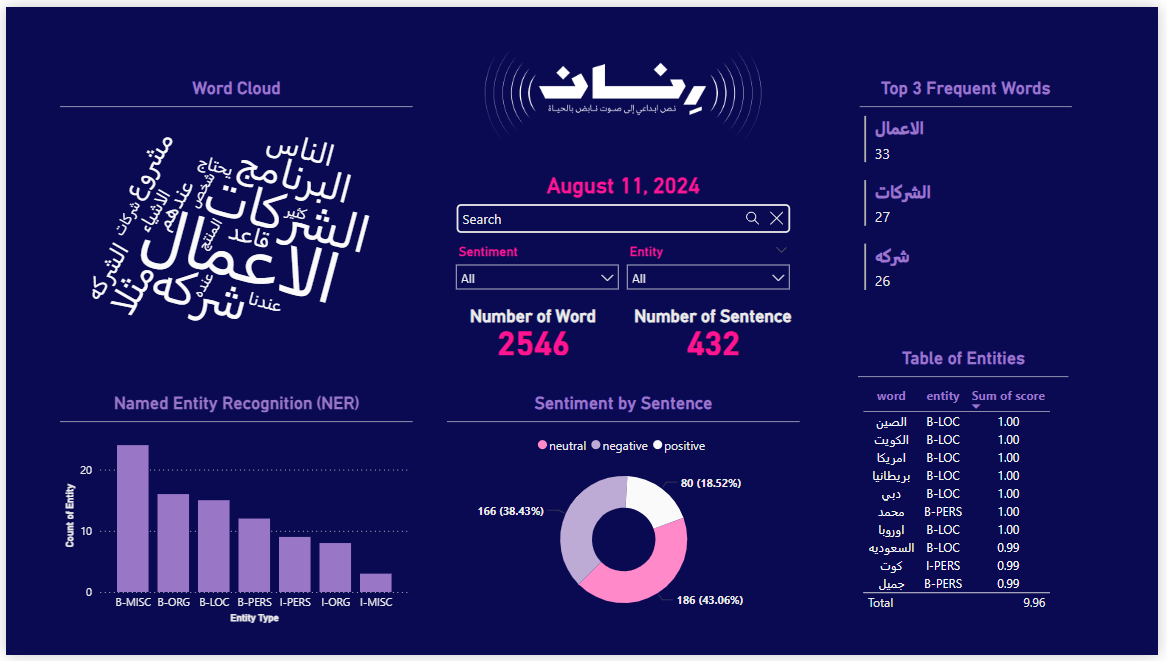

The dashboard page shown, as its layout file describes it:
{"tool":"powerbi","page":{"name":"Page 1","canvas":[1280,720],"ordinal":0},"visuals":[{"type":"card","title":"Number of Word","fields":{"Values":["word_frequency(dashboard) (2).Word"]},"box":[489.8,332.4,190.9,60.4],"z":0},{"type":"card","title":"Number of Sentence","fields":{"Values":["topics(dashboard) (1).Sentence"]},"box":[690.2,332.4,190.9,60.4],"z":1000},{"type":"WordCloud1447959067750","title":"Word Cloud","fields":{"Category":["word_frequency(dashboard) (2).Word"],"Values":["word_frequency(dashboard) (2).Frequency"]},"box":[60,78,392,346],"z":2000},{"type":"donutChart","title":"Sentiment by Sentence ","fields":{"Category":["sentiments(dashboard) (1).Sentiment"],"Y":["sentiments(dashboard) (1).Sentiment"]},"box":[490,428,392,260],"z":3000},{"type":"multiRowCard","title":"Top 3 Frequent Words","fields":{"Values":["word_frequency(dashboard) (2).Word","word_frequency(dashboard) (2).Frequency"]},"box":[948,78,236,274],"z":4000},{"type":"columnChart","title":"Named Entity Recognition (NER)","fields":{"Category":["entities(dashboard) (1).entity"],"Y":["entities(dashboard) (1).entity"]},"box":[60,428,392,260],"z":6000},{"type":"tableEx","title":"Table of Entities","fields":{"Values":["Top_entities(dashboard).word","Top_entities(dashboard).entity","Top_entities(dashboard).score"]},"box":[946.8,378,234.3,309.9],"z":7000},{"type":"textSearchSlicerF85E2E78BE4A4D7D9F99ED75B5D71C85","fields":{"fields":["word_frequency(dashboard) (2).Word"]},"box":[489.8,208.4,391.3,50.9],"z":8000},{"type":"slicer","fields":{"Values":["sentiments(dashboard) (1).Sentiment"]},"box":[489.8,257.7,200.4,60.4],"z":9000},{"type":"slicer","fields":{"Values":["entities(dashboard) (1).entity"]},"box":[680.7,257.7,200.4,60.4],"z":10000},{"type":"card","fields":{"Values":["Table.Date"]},"box":[489.8,173.4,391.3,47.7],"z":11000},{"type":"image","box":[520,8,330.8,181.3],"z":13000}]}

Visuals, with their boxes in screenshot pixels (x1, y1, x2, y2), scaled from the page's 1280x720 canvas onto the 1167x661 screenshot:
"Number of Word" card: [left=447, top=305, right=621, bottom=361]
"Number of Sentence" card: [left=629, top=305, right=803, bottom=361]
"Word Cloud" WordCloud1447959067750: [left=55, top=72, right=412, bottom=389]
"Sentiment by Sentence " donutChart: [left=447, top=393, right=804, bottom=632]
"Top 3 Frequent Words" multiRowCard: [left=864, top=72, right=1079, bottom=323]
"Named Entity Recognition (NER)" columnChart: [left=55, top=393, right=412, bottom=632]
"Table of Entities" tableEx: [left=863, top=347, right=1077, bottom=632]
textSearchSlicerF85E2E78BE4A4D7D9F99ED75B5D71C85 - word_frequency(dashboard) (2).Word: [left=447, top=191, right=803, bottom=238]
slicer - sentiments(dashboard) (1).Sentiment: [left=447, top=237, right=629, bottom=292]
slicer - entities(dashboard) (1).entity: [left=621, top=237, right=803, bottom=292]
card - Table.Date: [left=447, top=159, right=803, bottom=203]
image: [left=474, top=7, right=776, bottom=174]
